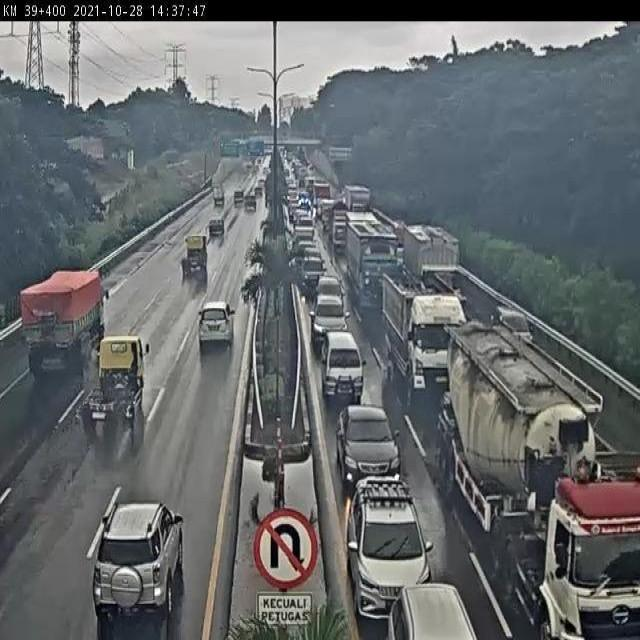car: (89, 487, 190, 625), (359, 464, 432, 615), (339, 401, 404, 499), (322, 323, 378, 416), (480, 305, 535, 364), (314, 291, 348, 361), (198, 294, 237, 354), (316, 268, 344, 309), (301, 250, 325, 294), (294, 239, 321, 271)
truck: (431, 320, 571, 548), (377, 269, 469, 407), (19, 265, 110, 371), (399, 225, 471, 332), (89, 326, 158, 434), (347, 231, 400, 325), (183, 231, 217, 279)
